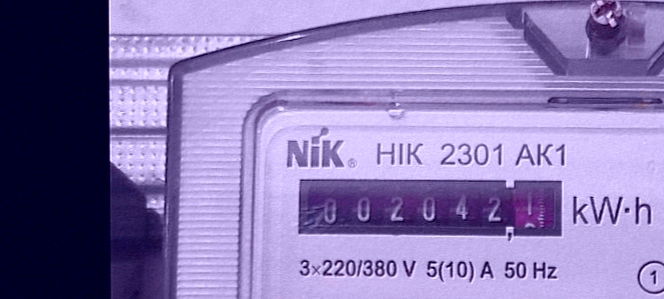0: (320, 193, 338, 223), (419, 192, 437, 222), (354, 192, 371, 223)
1: (521, 186, 535, 217)
2: (387, 193, 405, 222), (485, 192, 502, 221)
4: (452, 189, 470, 222)
screen: (293, 172, 567, 246)
